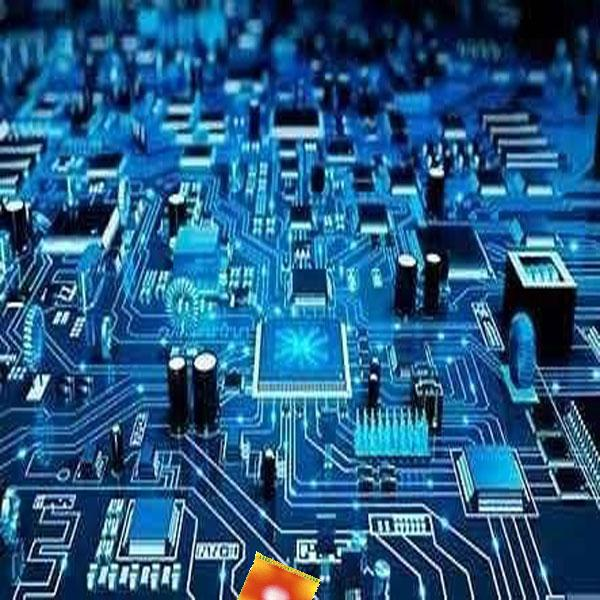componente_T: (231, 549, 325, 600)
